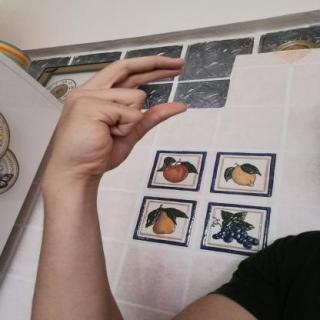DHELL: (38, 49, 196, 184)
